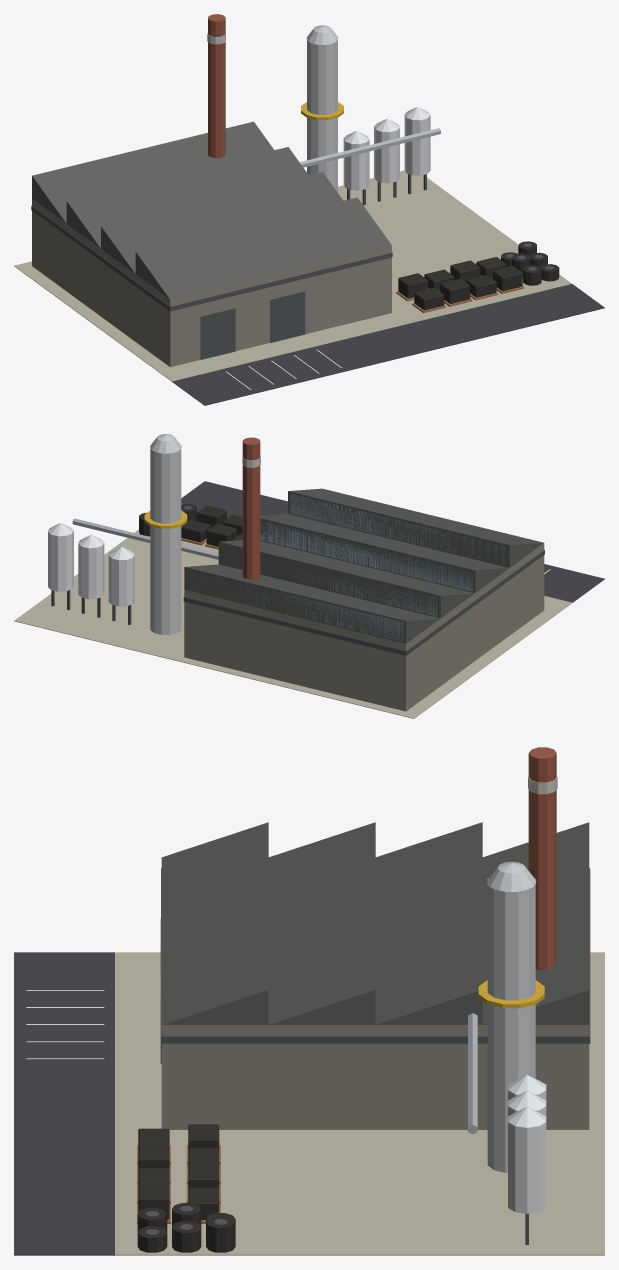
Rendered from rubberplant.glb.
The picture shows the model from 3 angles, top to bottom: view 1: azimuth 30°, elevation 25°; view 2: azimuth 150°, elevation 25°; view 3: azimuth 270°, elevation 25°; orthographic projection. The views are drawn at different scales.
Parts seen in each view (by area): view 1: rubberplant; view 2: rubberplant; view 3: rubberplant.
Part boxes in pixels (<box>): rubberplant: <box>14,14,604,405</box>; rubberplant: <box>14,434,604,718</box>; rubberplant: <box>14,747,604,1255</box>.
Size of the model in its own units: 46 by 24 by 38.
